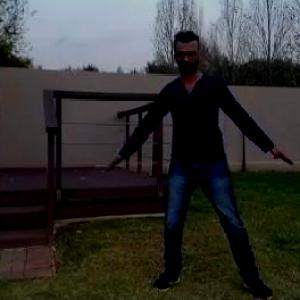land: (138, 26, 300, 299)
